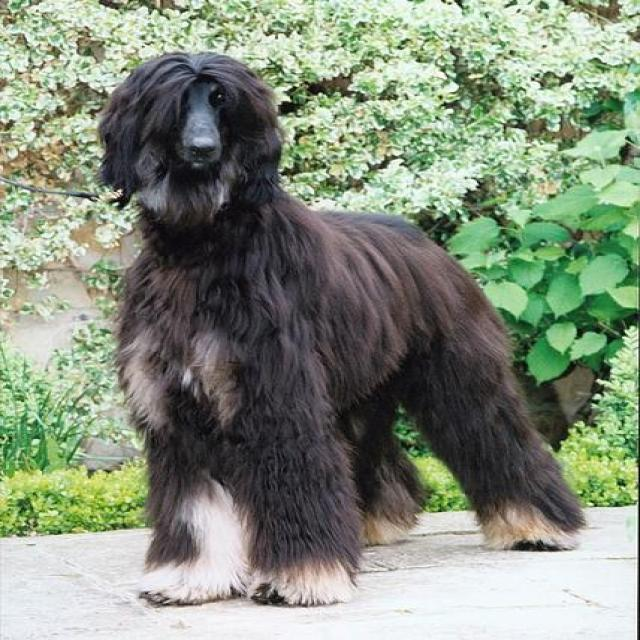afghan_hound: (97, 49, 586, 609)
